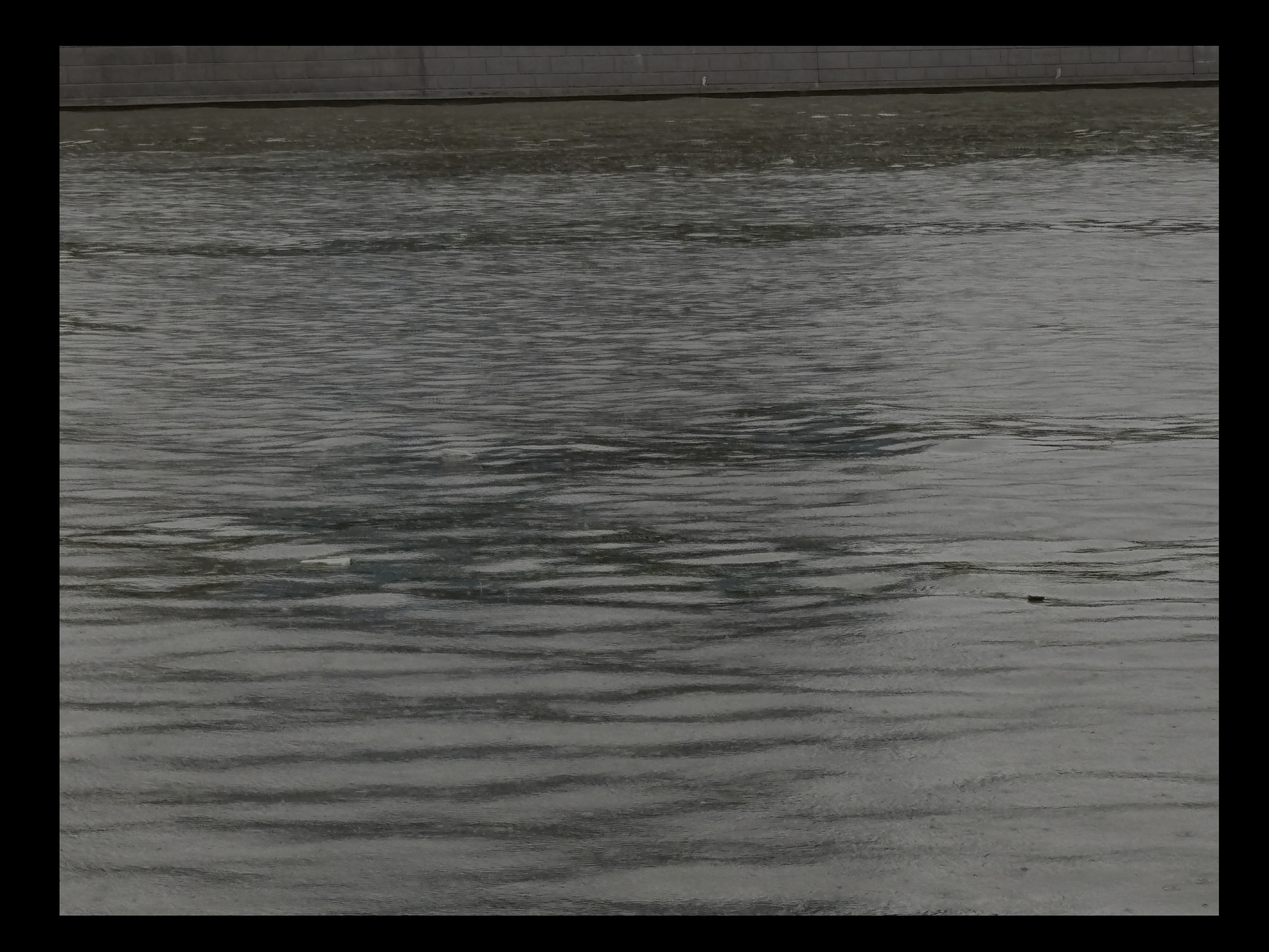Plastic wastes: (431, 442, 481, 464), (301, 554, 359, 570), (1024, 591, 1056, 609)
